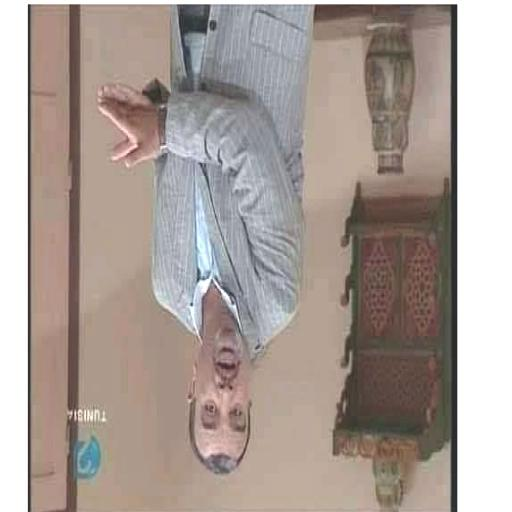slimane: (189, 326, 254, 476)
